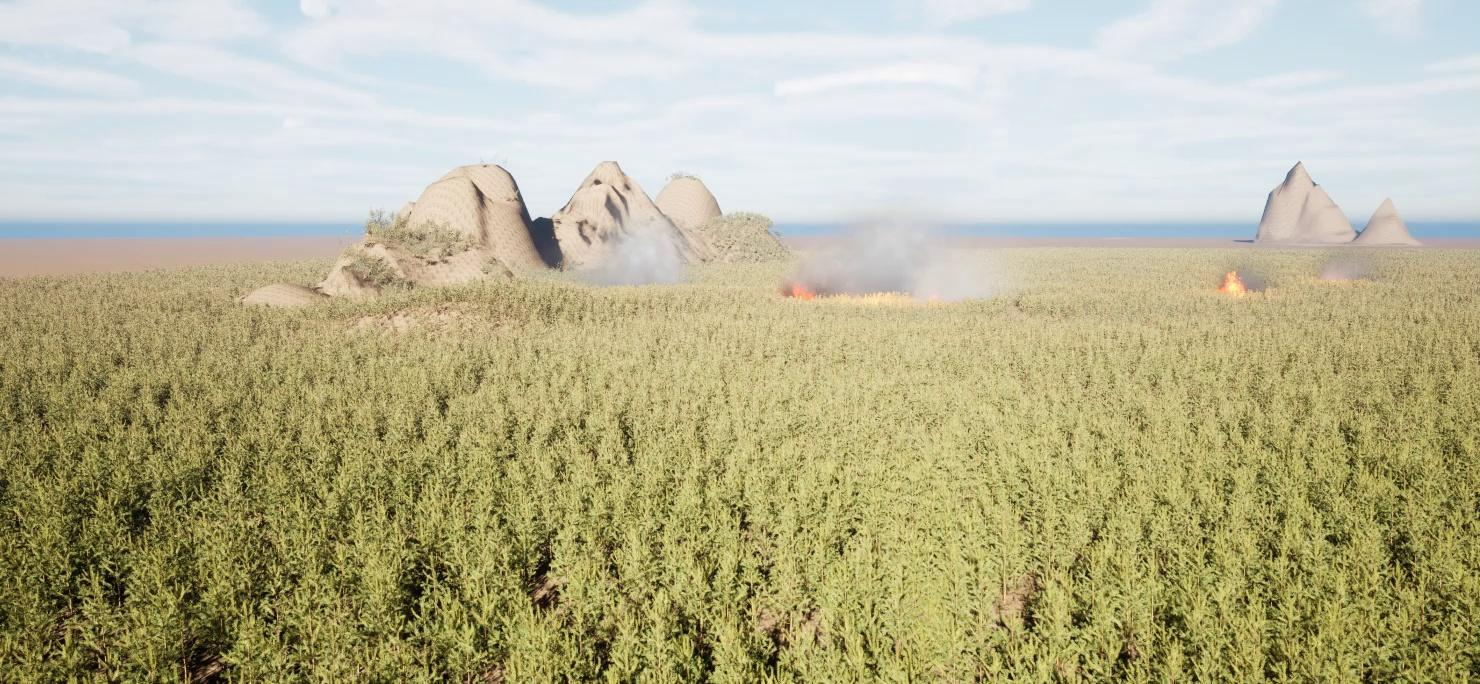fire: (777, 278, 836, 299), (1212, 270, 1247, 291)
smoke: (765, 201, 1017, 299), (576, 219, 682, 283), (1217, 255, 1279, 292), (1317, 247, 1378, 277)
